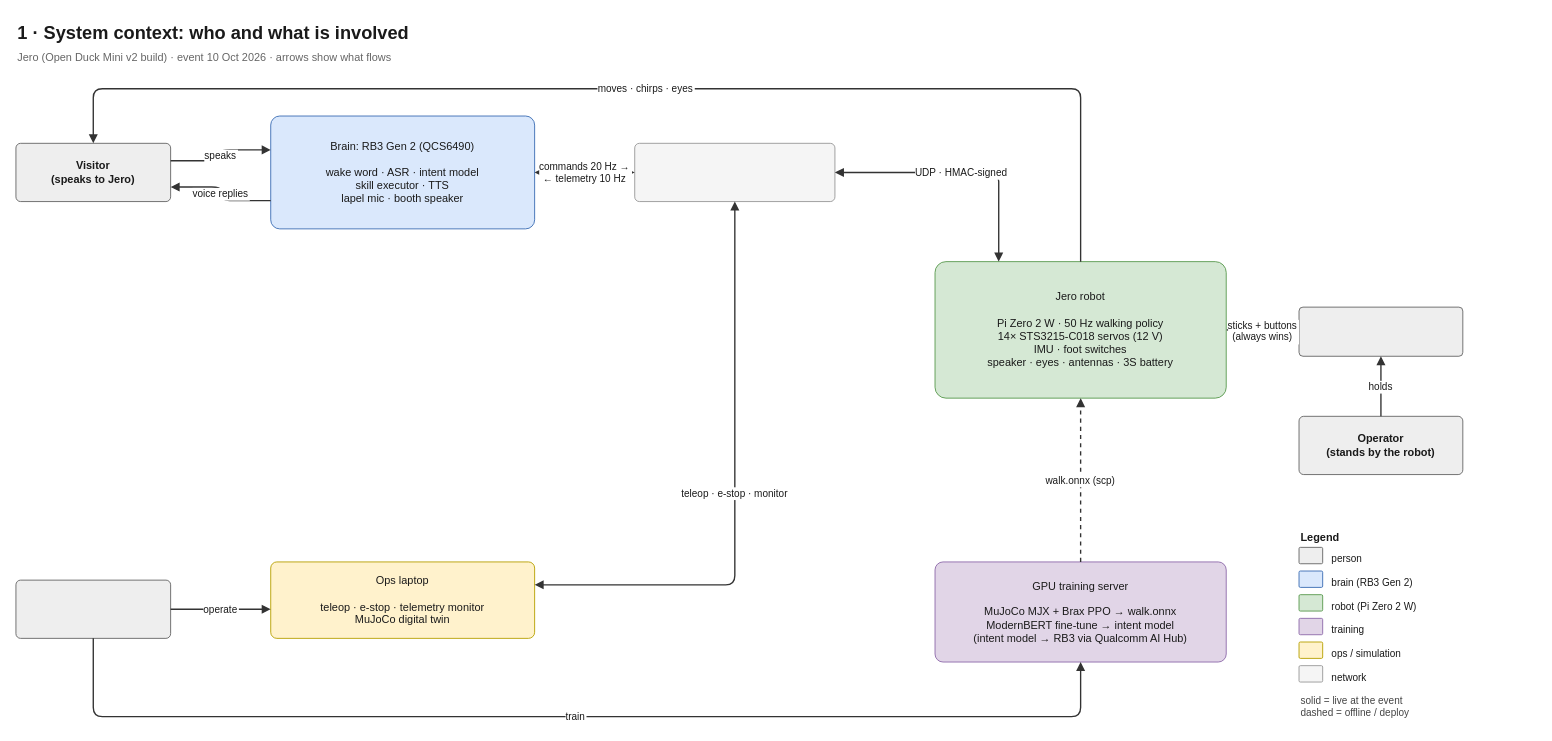
The diagram is 1552 pixels wide and 741 high, and some of its shapes have lost their labels. Each missing label, with the centre of its shape:
"Build team (train · deploy · debug)" belongs at point 93,608.
"Dedicated Wi-Fi router 2.4 GHz · static IPs" belongs at point 734,172.
"Gamepad (Bluetooth) A = pause/e-stop" belongs at point 1380,331.
